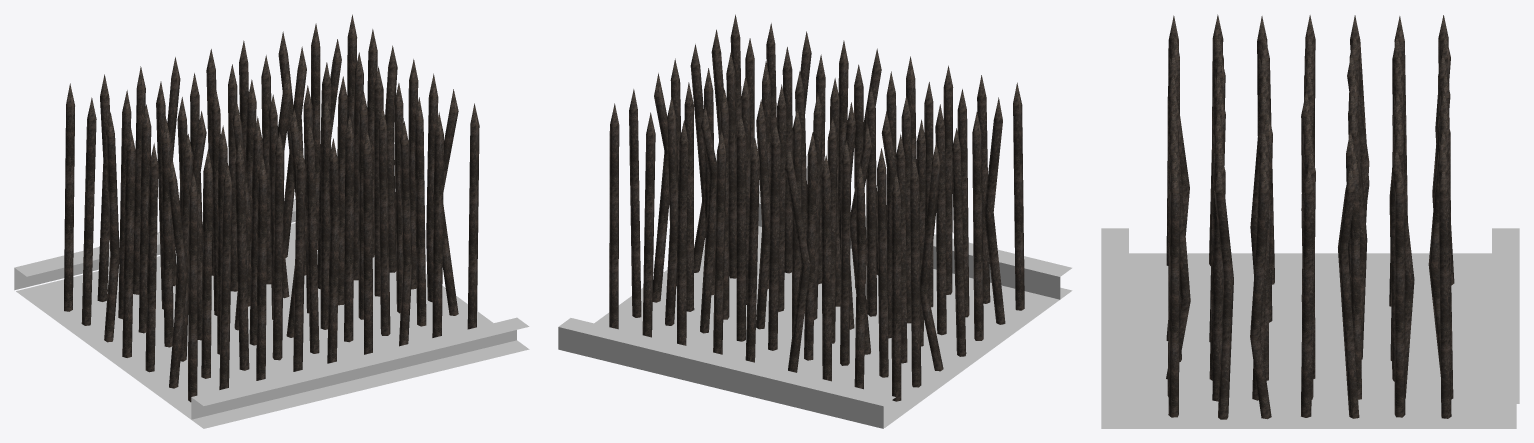
File: Spikes.FBX
3 renders of one model, left to right at view 1: azimuth 30°, elevation 25°; view 2: azimuth 150°, elevation 25°; view 3: azimuth 270°, elevation 25°, orthographic. The views are drawn at different scales.
Visible parts, largest first — view 1: Spikes; view 2: Spikes; view 3: Spikes.
Part boxes in pixels (bbox=[...]): Spikes: bbox=[14, 14, 529, 428]; Spikes: bbox=[558, 14, 1072, 428]; Spikes: bbox=[1101, 14, 1519, 428].
Size of the model in its own units: 750 by 500 by 755.
